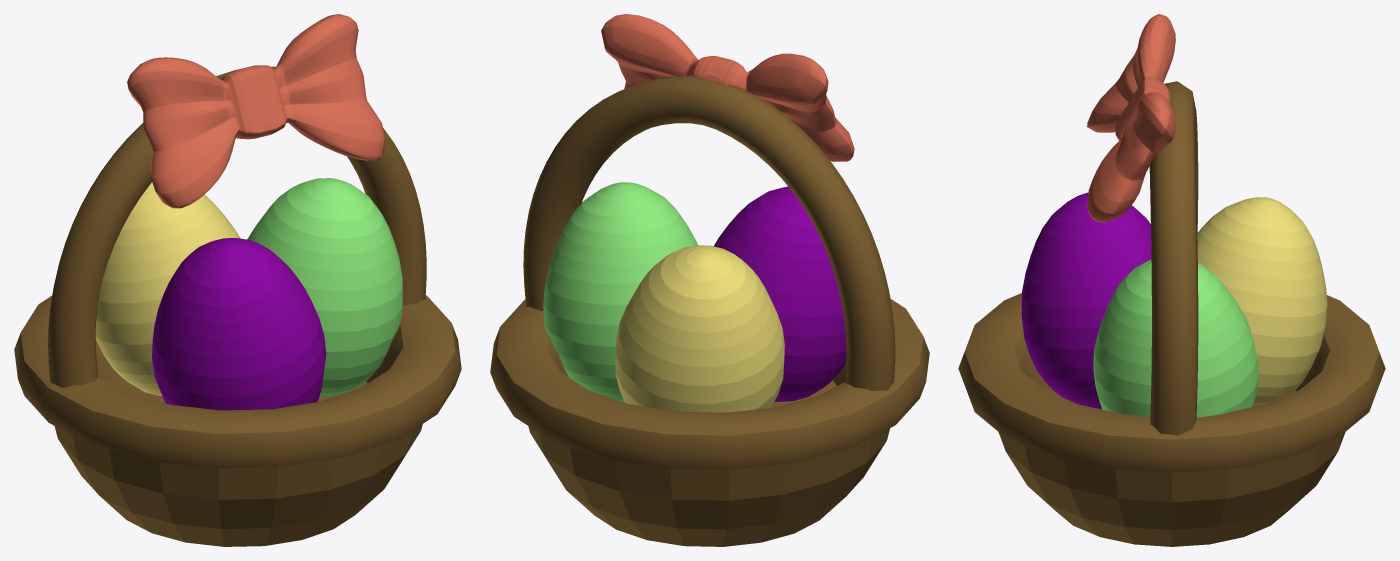
Rendered from EasterBasket.fbx.
3 renders of one model, left to right at view 1: azimuth 30°, elevation 25°; view 2: azimuth 150°, elevation 25°; view 3: azimuth 270°, elevation 25°, orthographic. The views are drawn at different scales.
Parts seen in each view (by area): view 1: egg (×3), Basket, Bow1, Handle1; view 2: egg (×3), Basket, Handle1, Bow1; view 3: Basket, egg (×3), Handle1, Bow1.
Boxes of the visible parts, bbox=[...] form: egg (×3): bbox=[95, 178, 402, 410]; Basket: bbox=[14, 295, 461, 546]; Bow1: bbox=[127, 14, 385, 208]; Handle1: bbox=[48, 66, 426, 387]; egg (×3): bbox=[543, 182, 846, 412]; Basket: bbox=[490, 299, 929, 546]; Handle1: bbox=[523, 75, 895, 390]; Bow1: bbox=[601, 14, 854, 161]; Basket: bbox=[958, 293, 1385, 546]; egg (×3): bbox=[1021, 192, 1327, 417]; Handle1: bbox=[1149, 81, 1198, 435]; Bow1: bbox=[1087, 14, 1175, 222].
Size of the model in its own units: 78.62 by 88.83 by 78.62.
